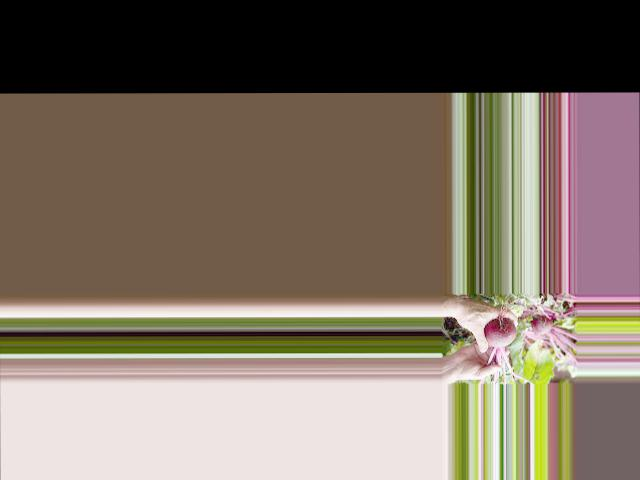beet: (482, 317, 534, 383)
